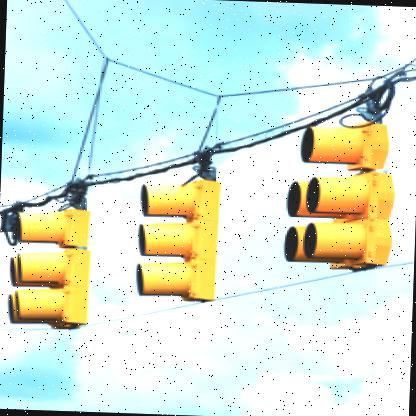trafficlight: (284, 116, 398, 272), (137, 175, 225, 308), (12, 202, 94, 331)
